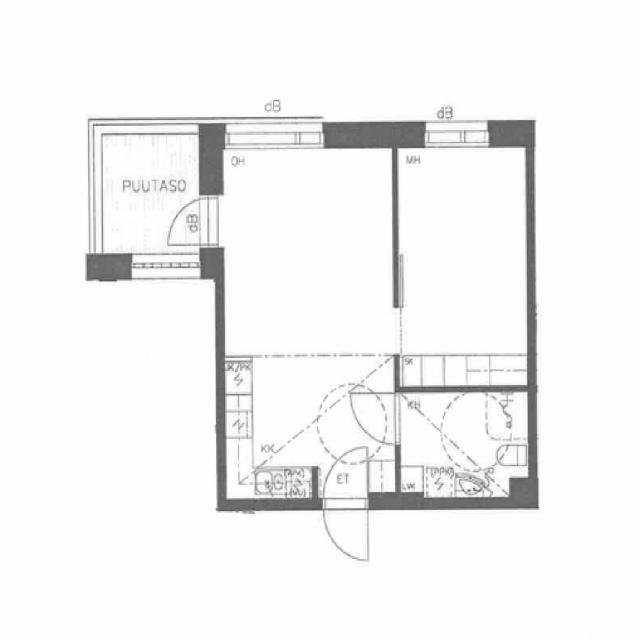door: (159, 198, 226, 245), (324, 446, 369, 509), (324, 498, 369, 560), (352, 393, 402, 442)
